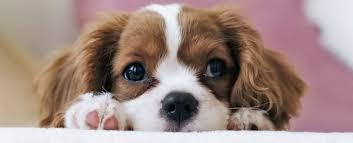Dog: (106, 1, 256, 132)
